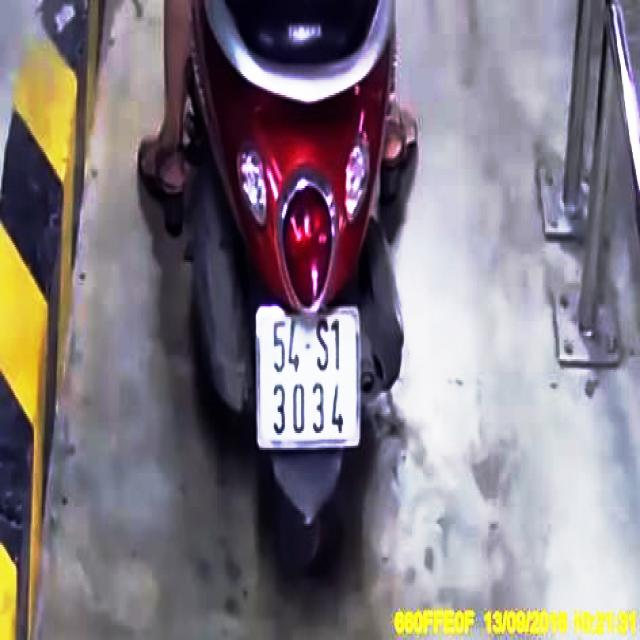license_plate: (258, 308, 362, 446)
